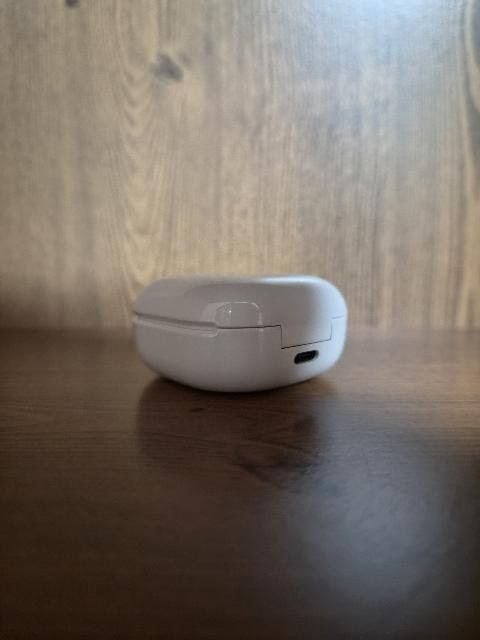earphone_case: (132, 274, 347, 392)
